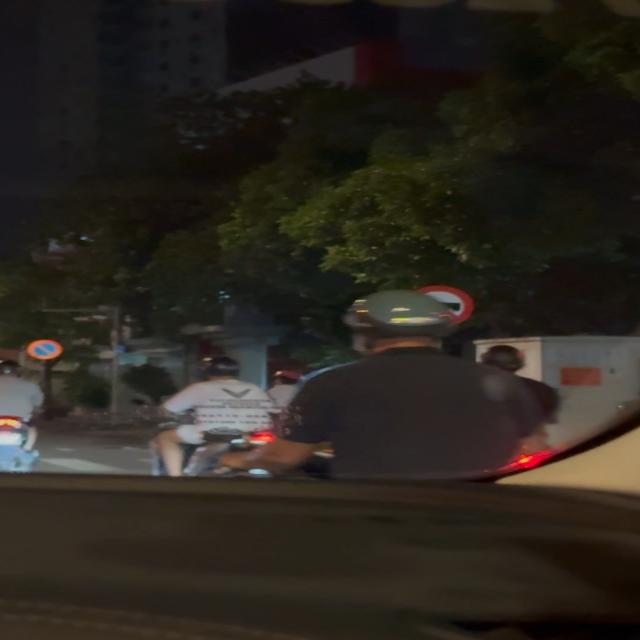Bien bao cam do xe: (26, 338, 66, 363)
